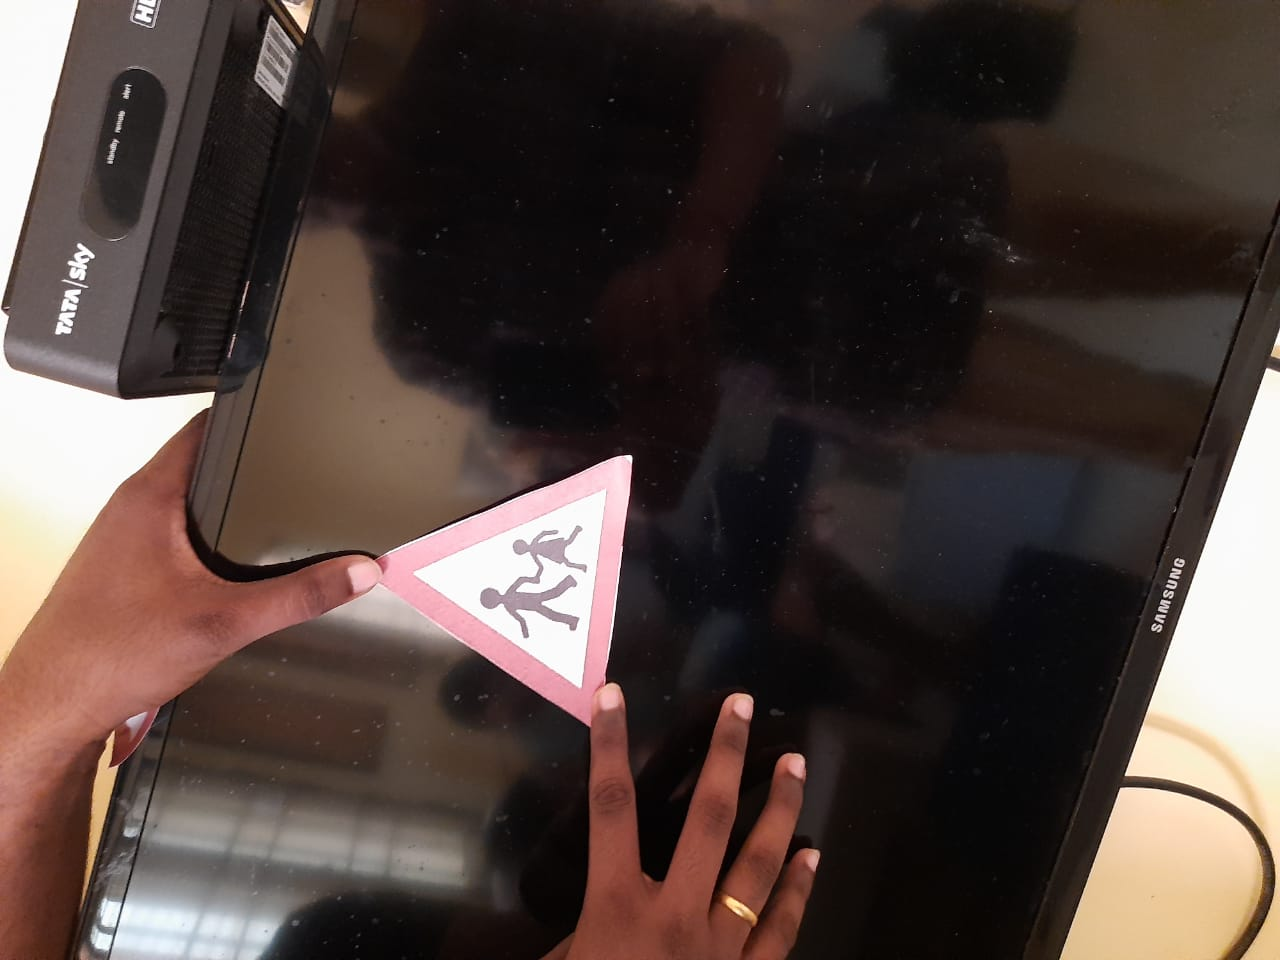SCHOOL ZONE: (356, 403, 634, 748)
